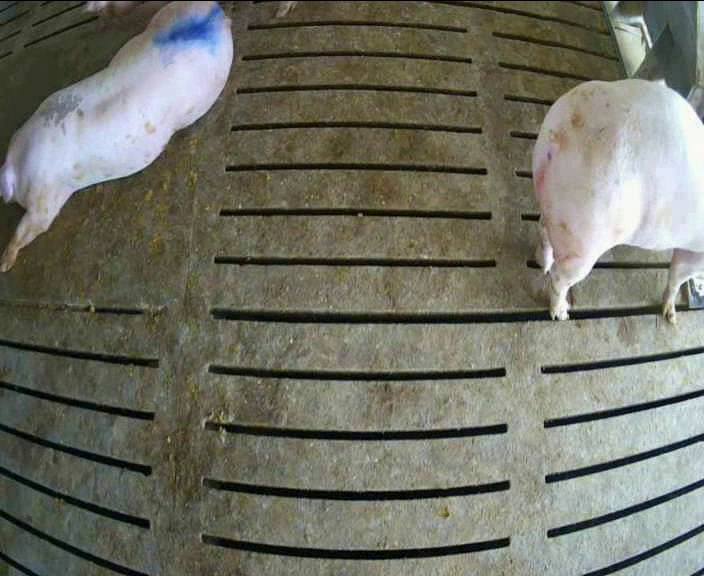pig: (0, 2, 232, 271), (533, 79, 703, 322)
